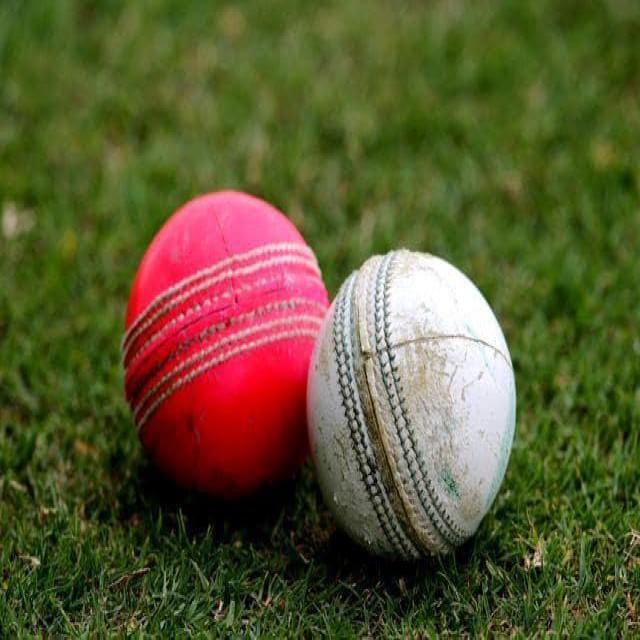ball: (126, 194, 329, 516), (309, 252, 515, 558)
